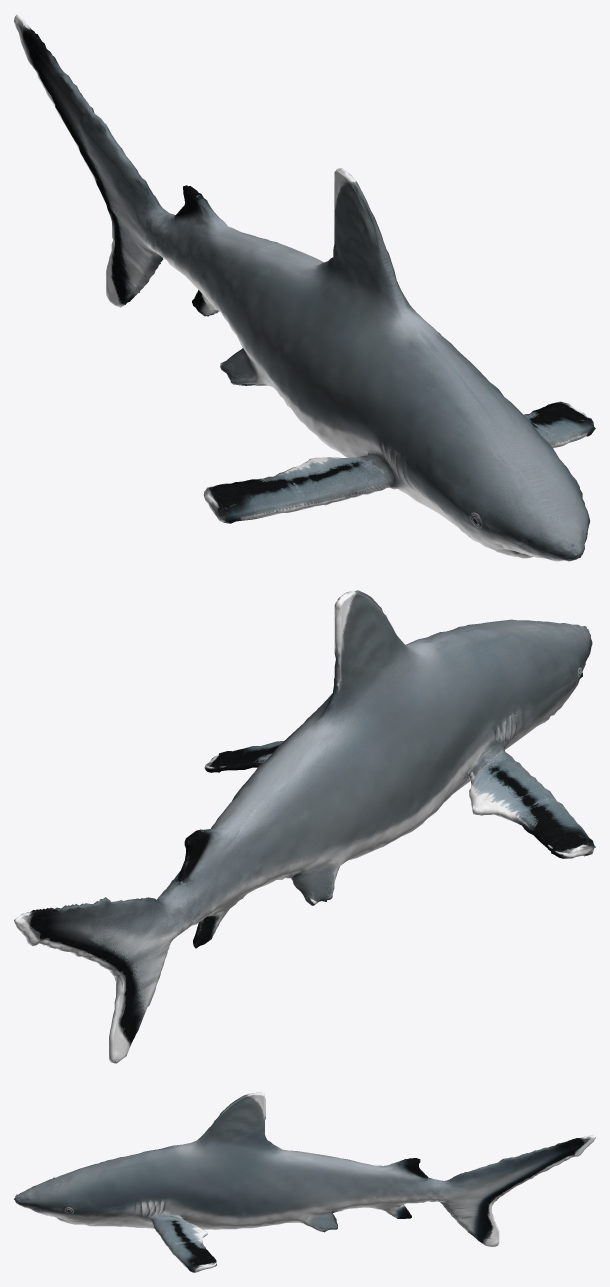
File: reef-shark.glb
The picture shows the model from 3 angles, top to bottom: view 1: azimuth 30°, elevation 25°; view 2: azimuth 150°, elevation 25°; view 3: azimuth 270°, elevation 25°; orthographic projection. The views are drawn at different scales.
Size of the model in its own units: 0.7319 by 0.5597 by 1.91.
1 material, 1 textured.
